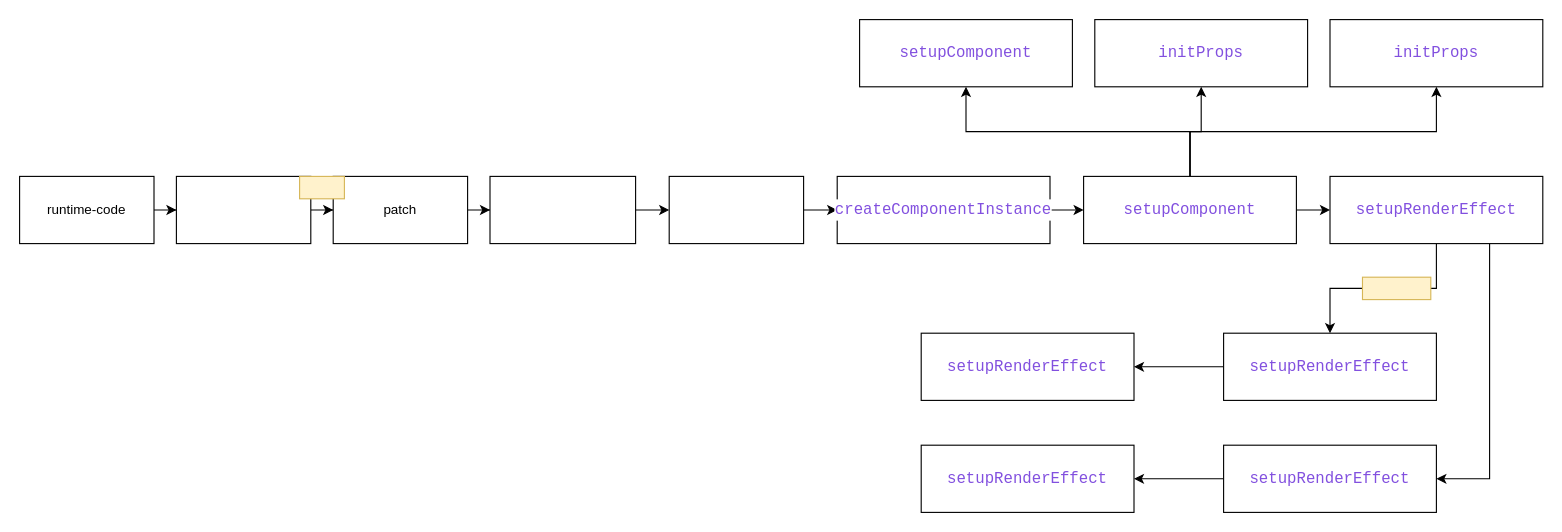
Image size: 1562x532. Some labels were removed from this diagram. The shapes that lost their labels are listed below. From the top down, each one's centre as x and y in pixels, then its label:
[321,187]: App
[243,209]: render
[562,209]: processComponent
[736,209]: mountComponent
[1396,288]: isMounted
